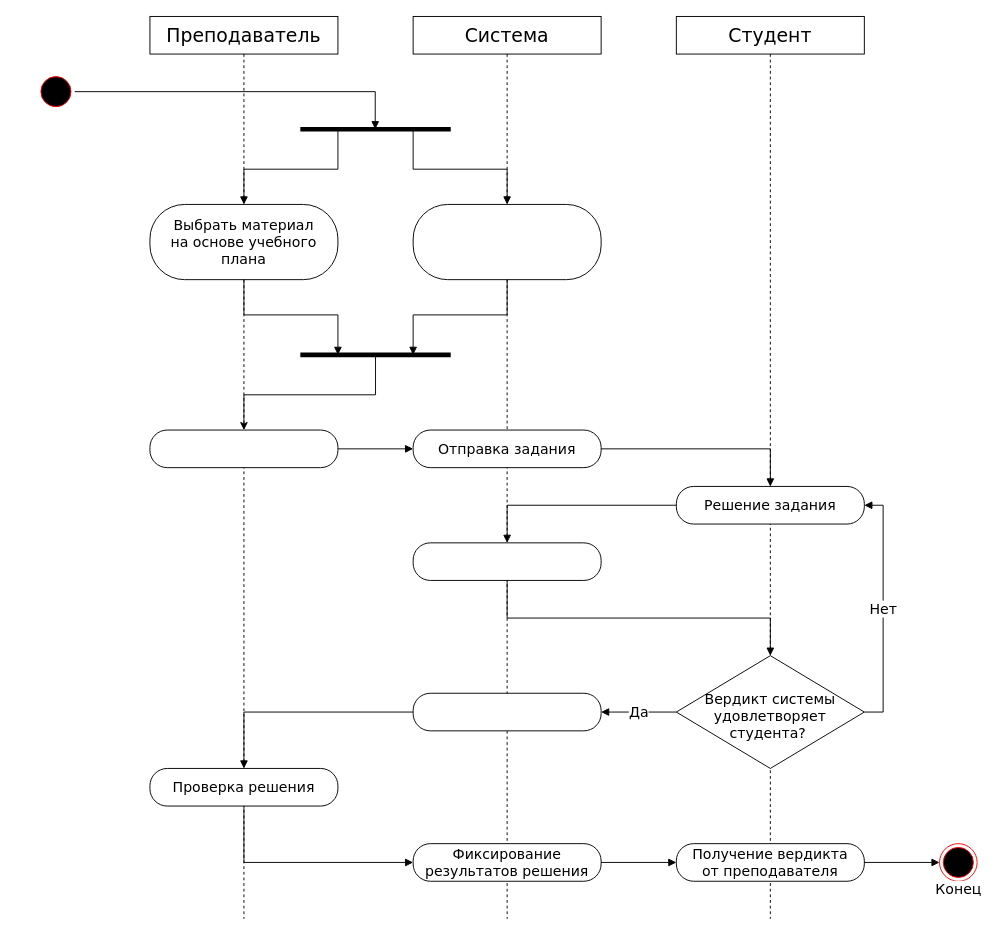
The diagram is 997 pixels wide and 935 high, and some of its shapes have lost their labels. The shapes that lost their labels are listed below. From the top down, each one's centre as x and y in pixels, then its label:
point (55, 91): Выдача и решение задания
point (506, 242): Подобрать материал на основе прогресса студента
point (243, 448): Выбрать обработчик задания и решения
point (506, 561): Предварительная обработка решения
point (506, 711): Окончательная обработка результата
